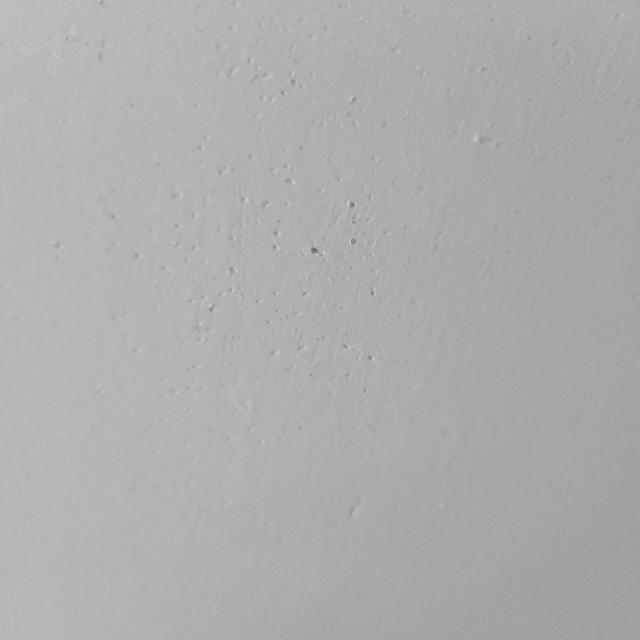rough and patchy surface: (112, 0, 507, 457)
